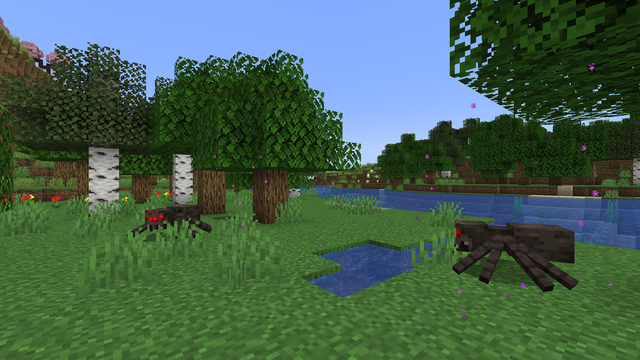araignees: (441, 212, 555, 291), (139, 201, 203, 243)
